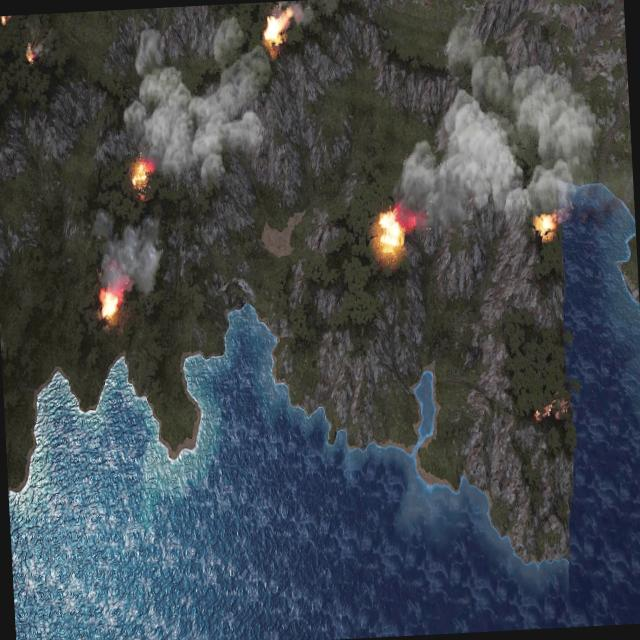fire: (374, 204, 408, 256), (260, 6, 294, 53), (532, 395, 566, 425), (130, 156, 154, 192), (99, 289, 122, 322), (534, 214, 557, 238), (26, 48, 35, 64)
smoke: (391, 11, 607, 227), (117, 19, 274, 187), (93, 206, 166, 296)
